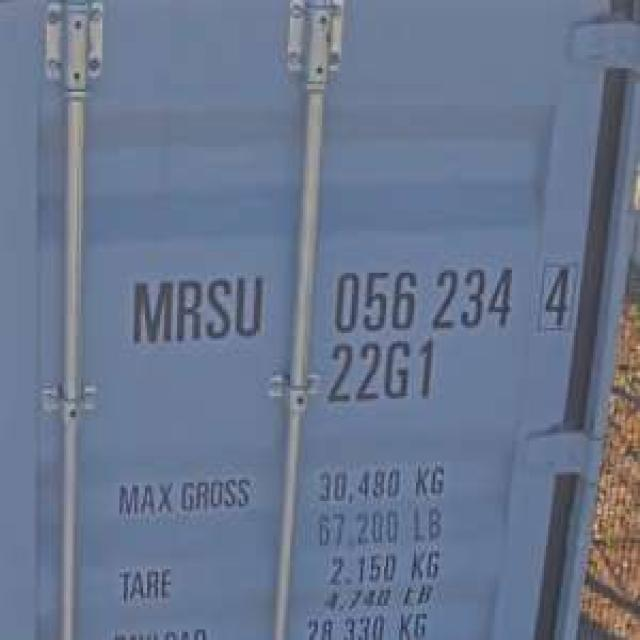dv: (538, 253, 579, 335)
owner: (121, 266, 274, 357)
serial: (328, 260, 520, 335)
size: (327, 339, 439, 411)
